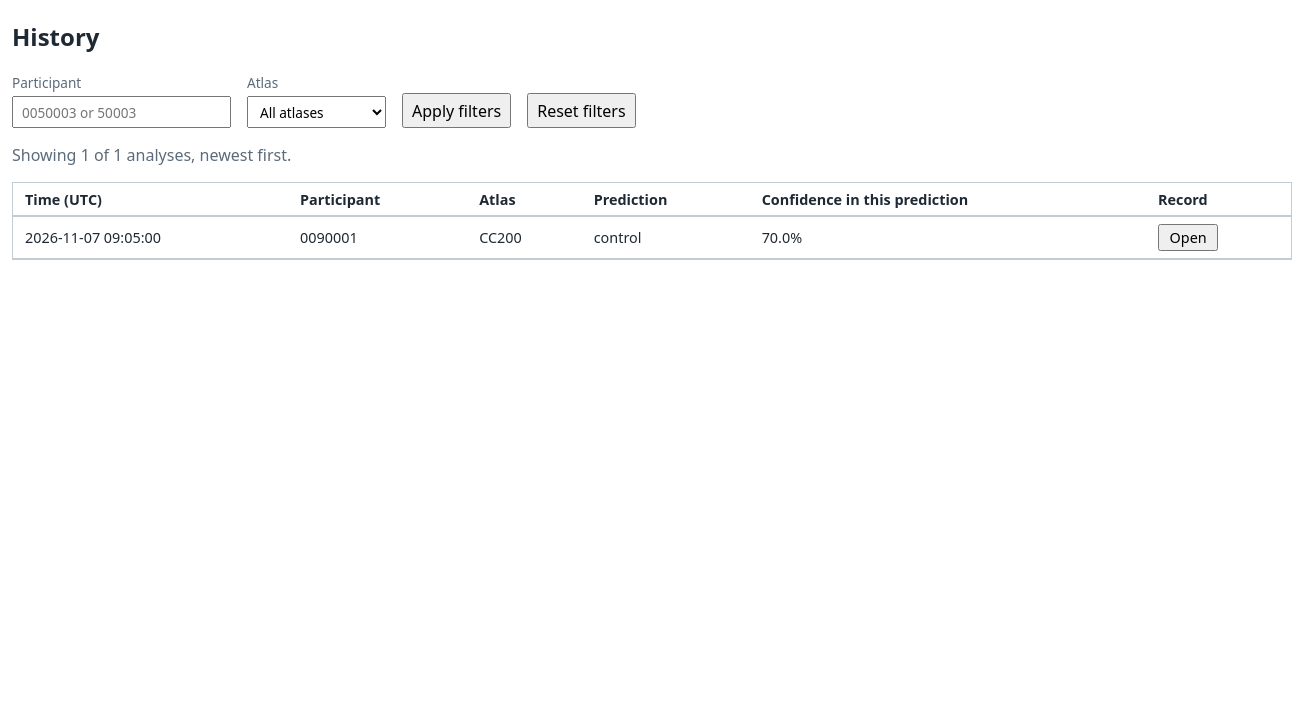
Scenario: History page: export and regenerate › names the fields that differ
Click the button with aria-label "Open analysis a1b2c3d4e5f6". click: [1188, 238]
box: [1158,224,1218,251]
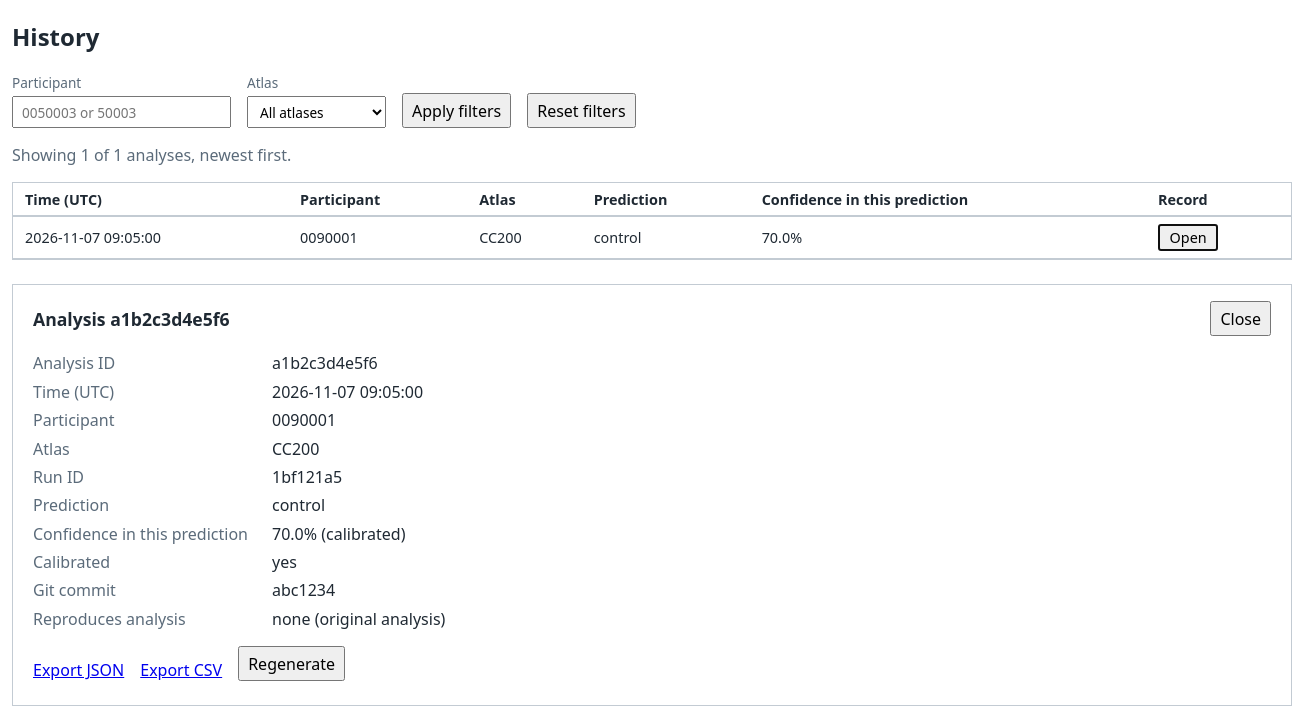
Expected: the button "Regenerate" is shown
Click the button "Regenerate". click: [292, 664]
box: [238,646,345,682]
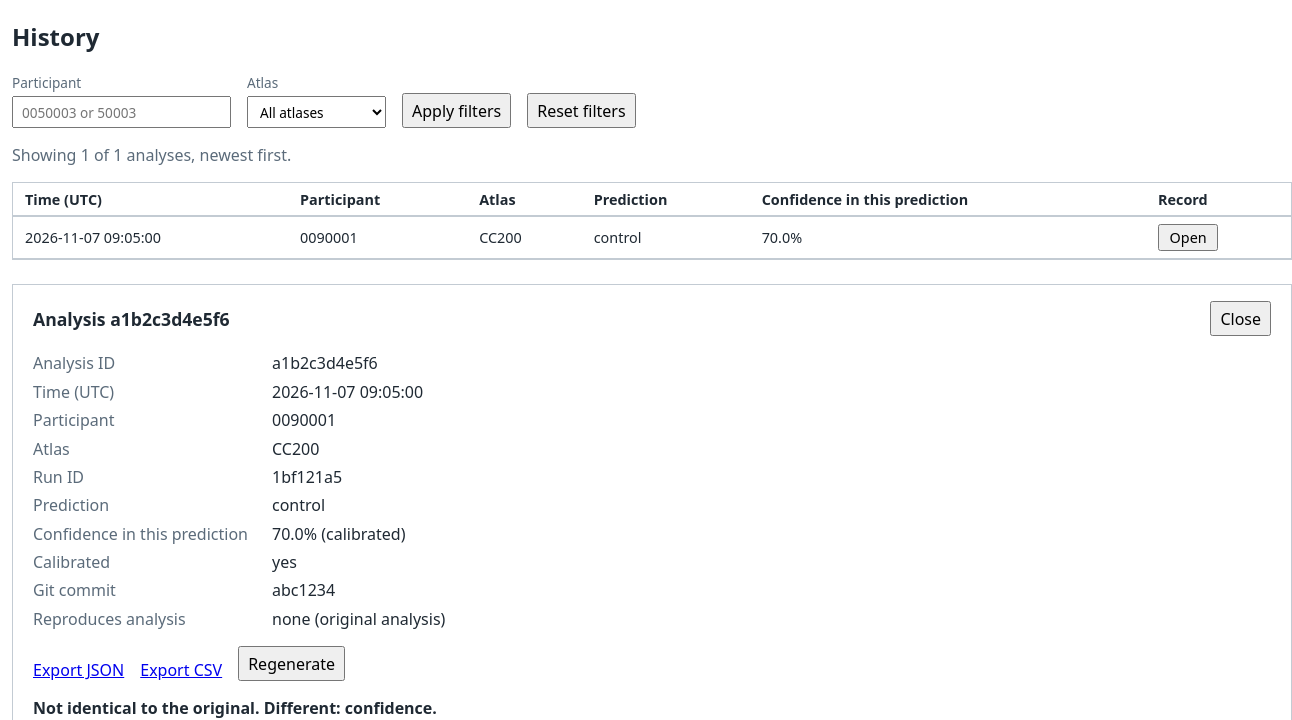
Expected: the text "Not identical to the original. Different: confidence." is shown, [33,698,437,719]
